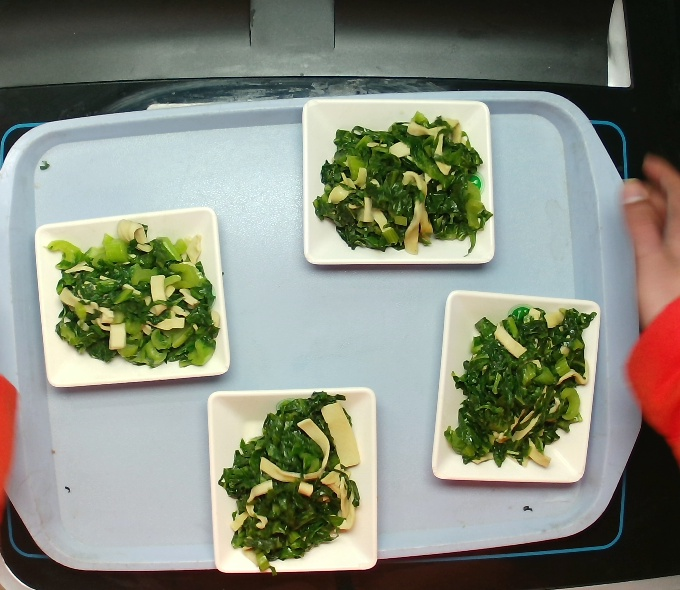wcq-QingCaiChaoQianZhang: (213, 385, 367, 578), (49, 215, 215, 382), (315, 110, 480, 257), (451, 302, 581, 472)
